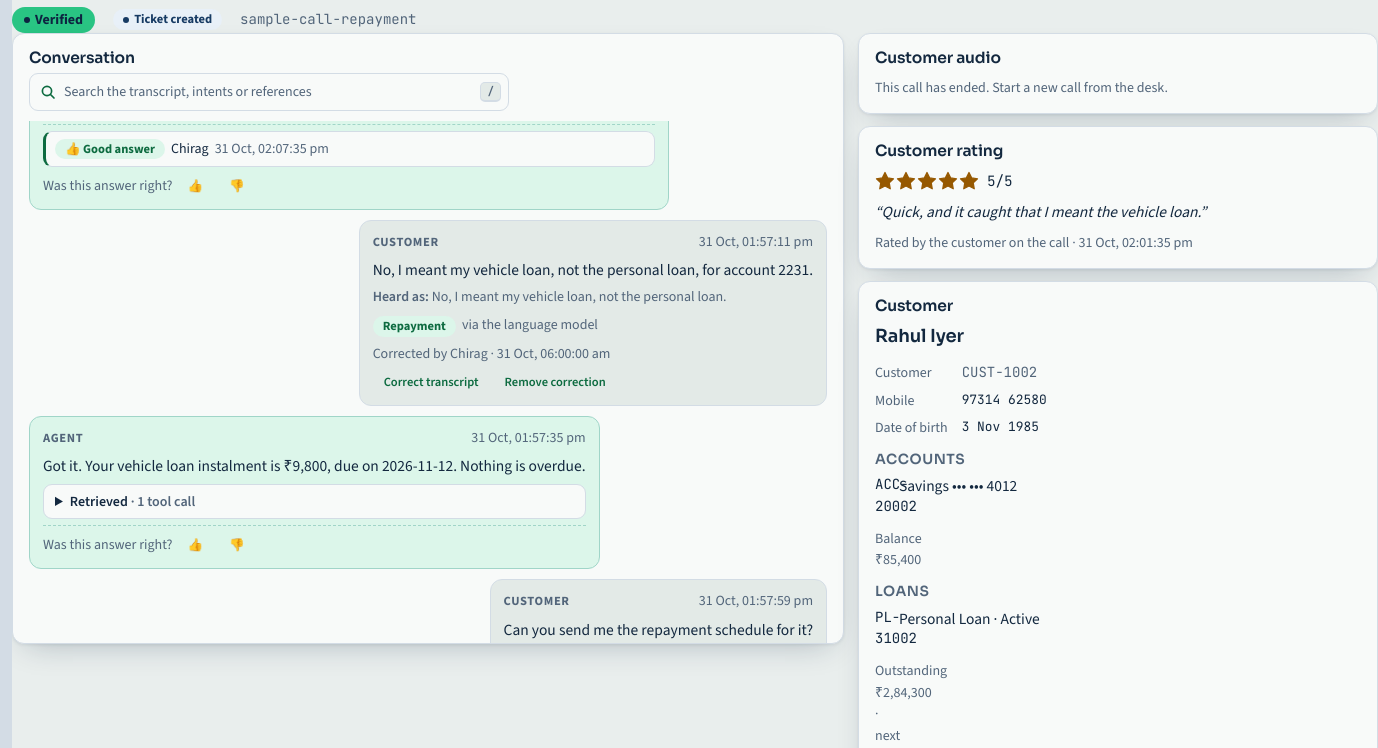
Test: caller transcript corrections (Level 2 §6) › saving a correction tells the live agent after the record, and says it will use a corrected number
The image size is (1378, 748).
(page scrolled)
Click the button "Correct transcript" at (431, 382), box [373,369,490,395]
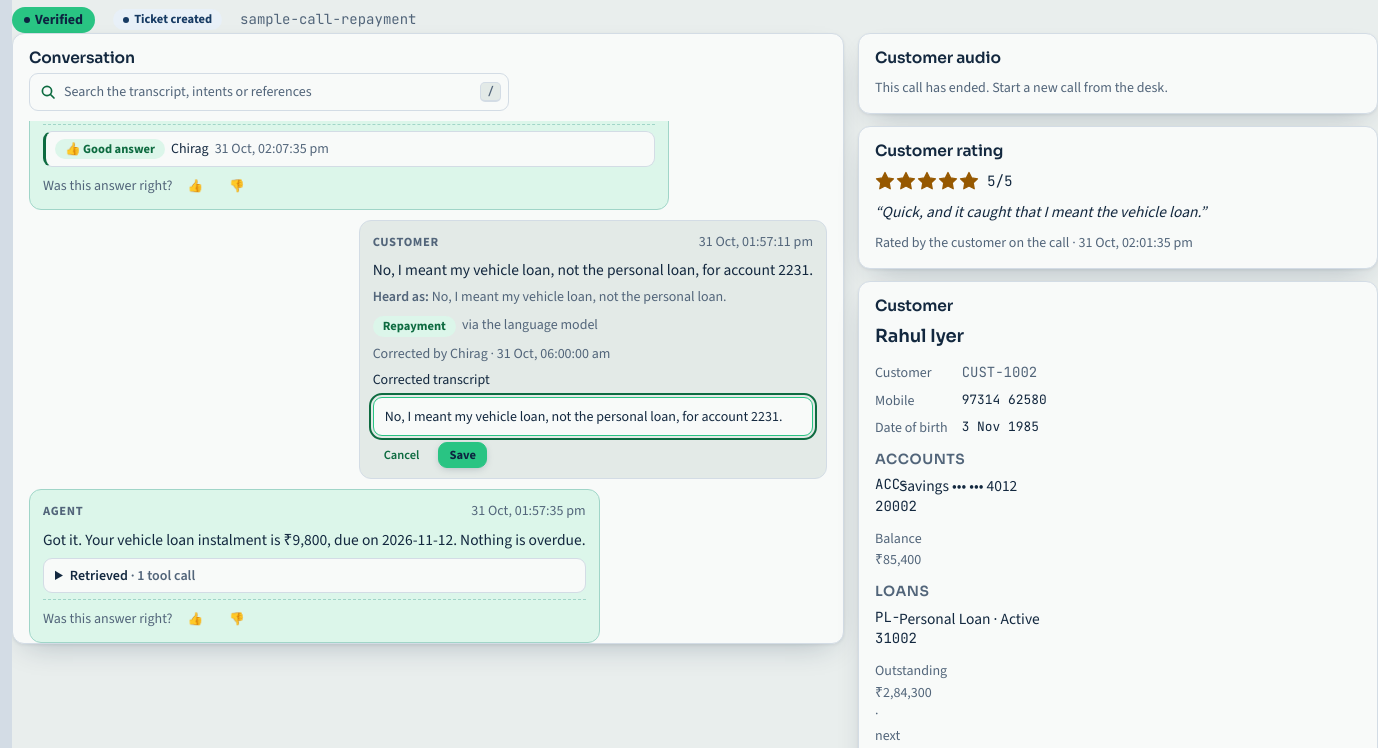
Replace the text in the field labelled "Corrected transcript" with "My number is 97314 62580" at (593, 416), box [373,397,813,436]
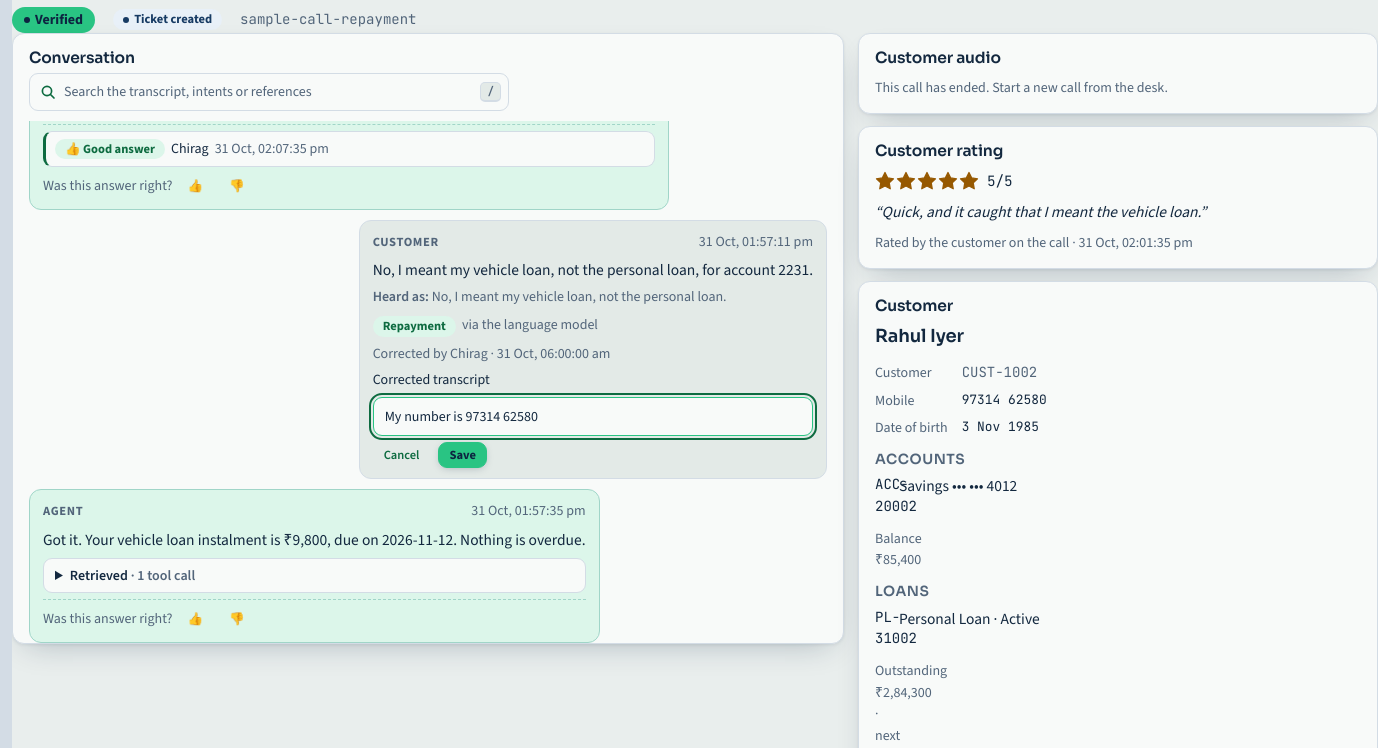
Click the button "Save" at (463, 455), box [438,442,487,468]
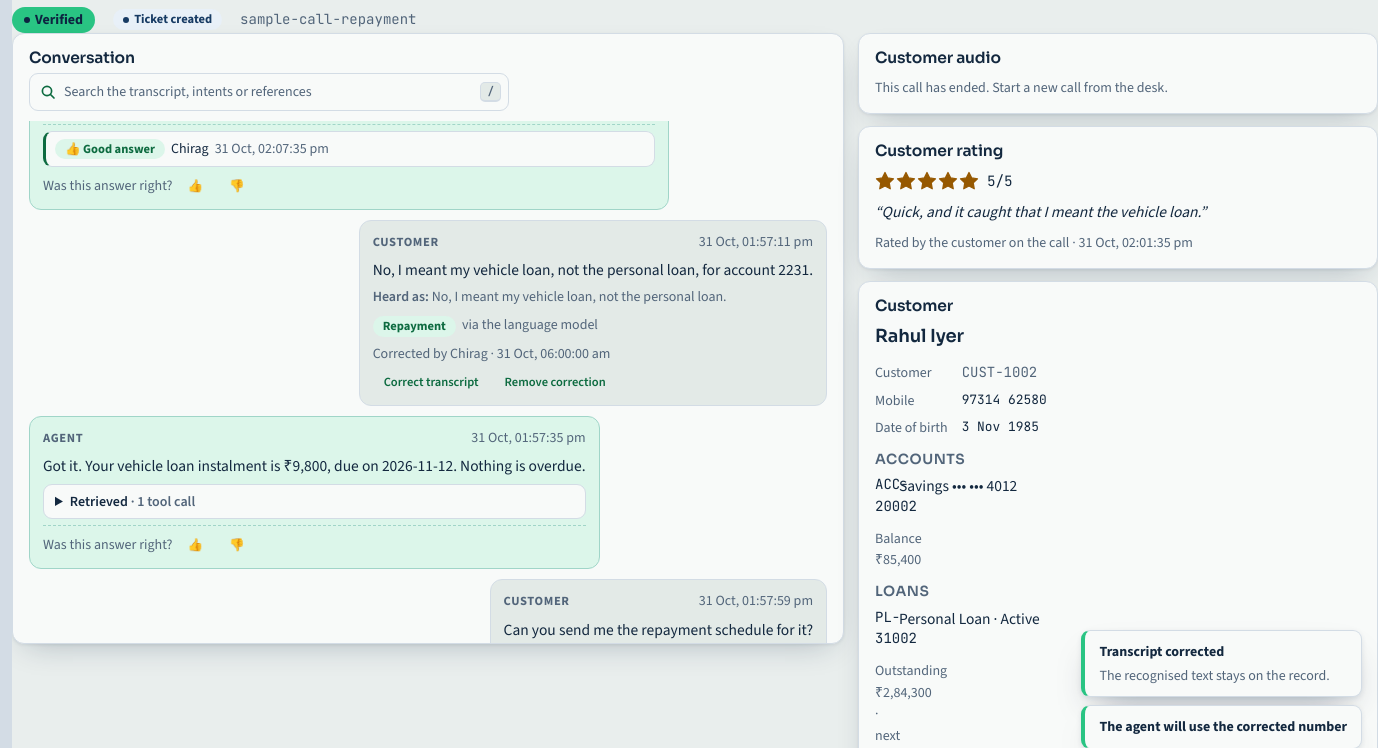
Result: the text "The agent will use the corrected number" is shown at [1099,716,1347,738]
Result: the text "Transcript corrected" is shown at [1099,642,1224,661]
